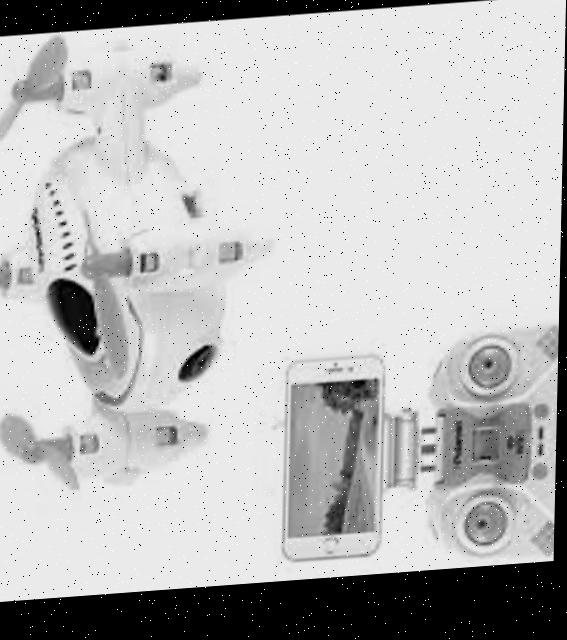drone: (0, 20, 280, 510)
